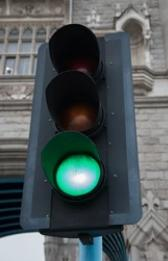green_light: (20, 23, 143, 230)
